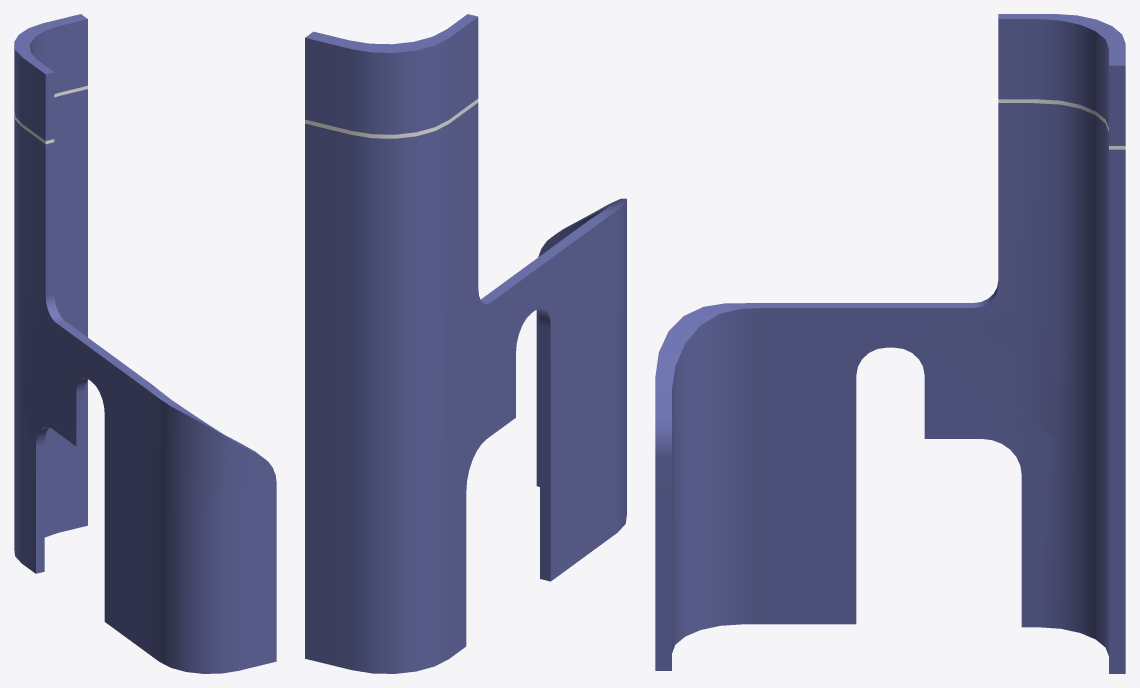
The model's file is sm_jumpStart_04.fbx.
3 renders of one model, left to right at view 1: azimuth 30°, elevation 25°; view 2: azimuth 150°, elevation 25°; view 3: azimuth 270°, elevation 25°, orthographic. The views are drawn at different scales.
Visible parts, largest first — view 1: sm_jumpStart_04; view 2: sm_jumpStart_04; view 3: sm_jumpStart_04.
Boxes of the visible parts, x1,y1,x2,y2 form: sm_jumpStart_04: (14,14,276,673); sm_jumpStart_04: (305,14,626,673); sm_jumpStart_04: (655,14,1125,673).
Bounding box in the file's own units: 1048 × 5740 × 4022.
